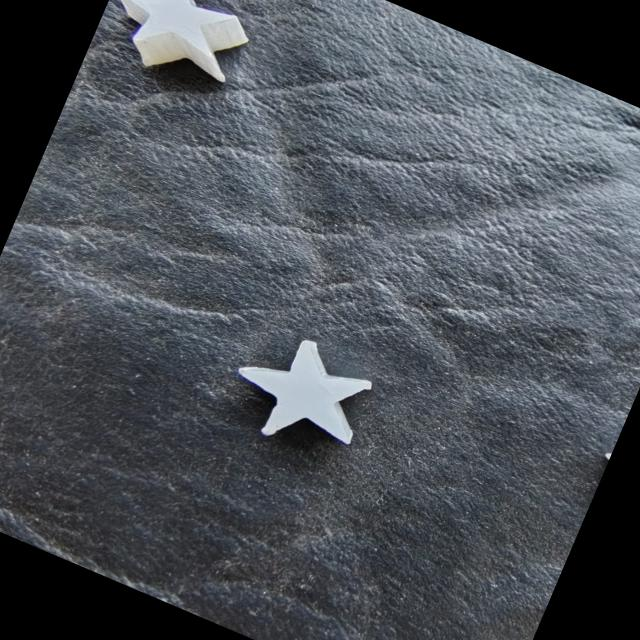estrellas: (242, 345, 367, 443), (131, 0, 233, 54)
